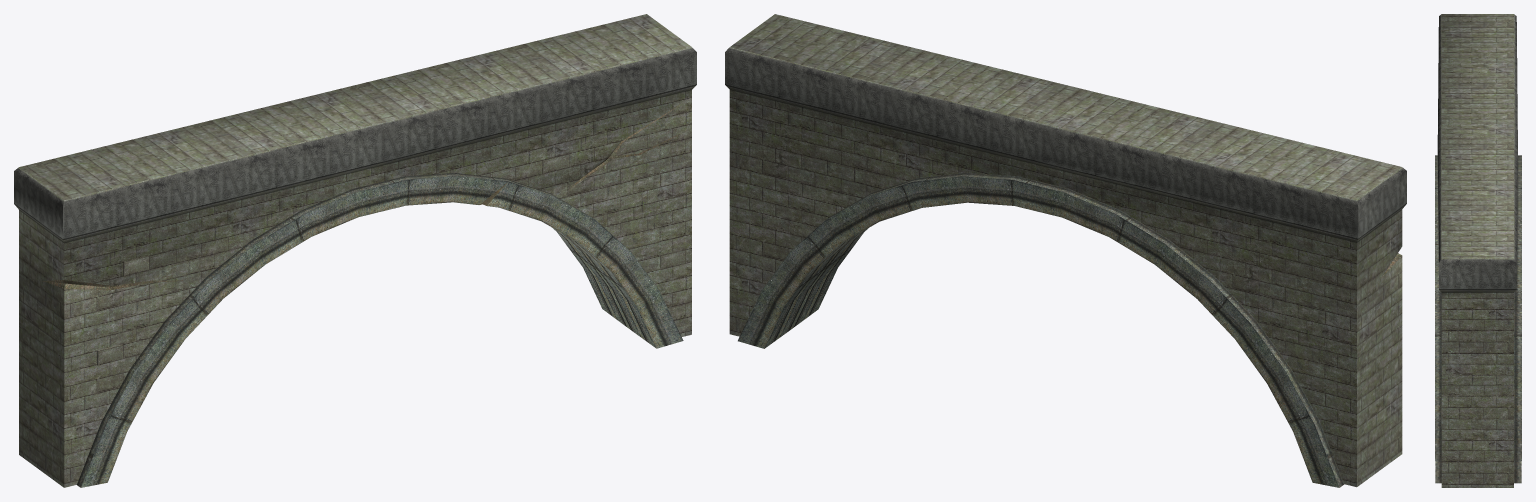
Rendered from Bigarchcracked.fbx.
3 renders of one model, left to right at view 1: azimuth 30°, elevation 25°; view 2: azimuth 150°, elevation 25°; view 3: azimuth 270°, elevation 25°, orthographic. The views are drawn at different scales.
Parts seen in each view (by area): view 1: Mesh Object; view 2: Mesh Object; view 3: Mesh Object.
Part boxes in pixels (bbox=[...]): Mesh Object: bbox=[14, 14, 696, 487]; Mesh Object: bbox=[725, 14, 1406, 487]; Mesh Object: bbox=[1435, 14, 1521, 487].
Size of the model in its own units: 8.08 by 3.52 by 1.2.
